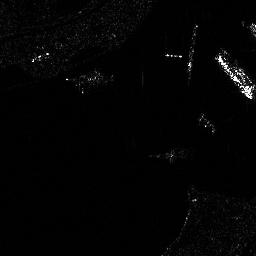ship: (215, 51, 255, 100)
